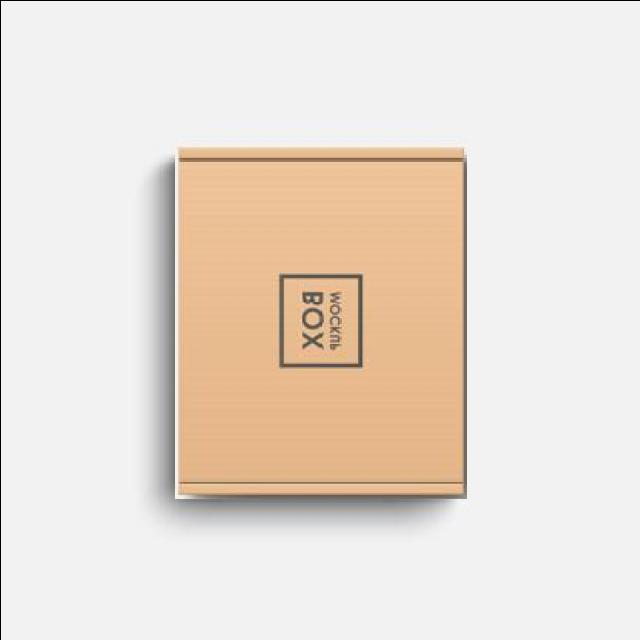normal: (174, 137, 466, 498)
